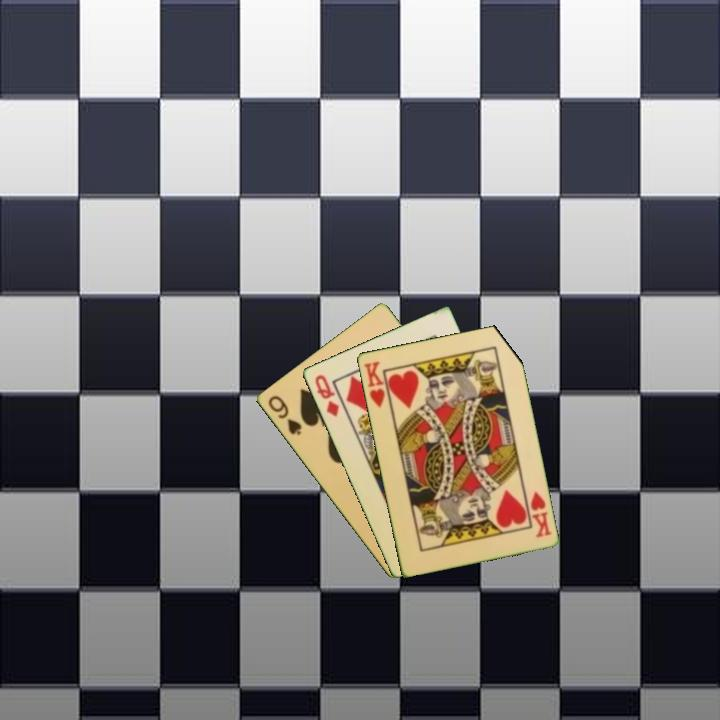9s: (264, 392, 304, 438)
Kh: (360, 358, 393, 411), (526, 488, 554, 540)
Qd: (311, 371, 342, 420)
